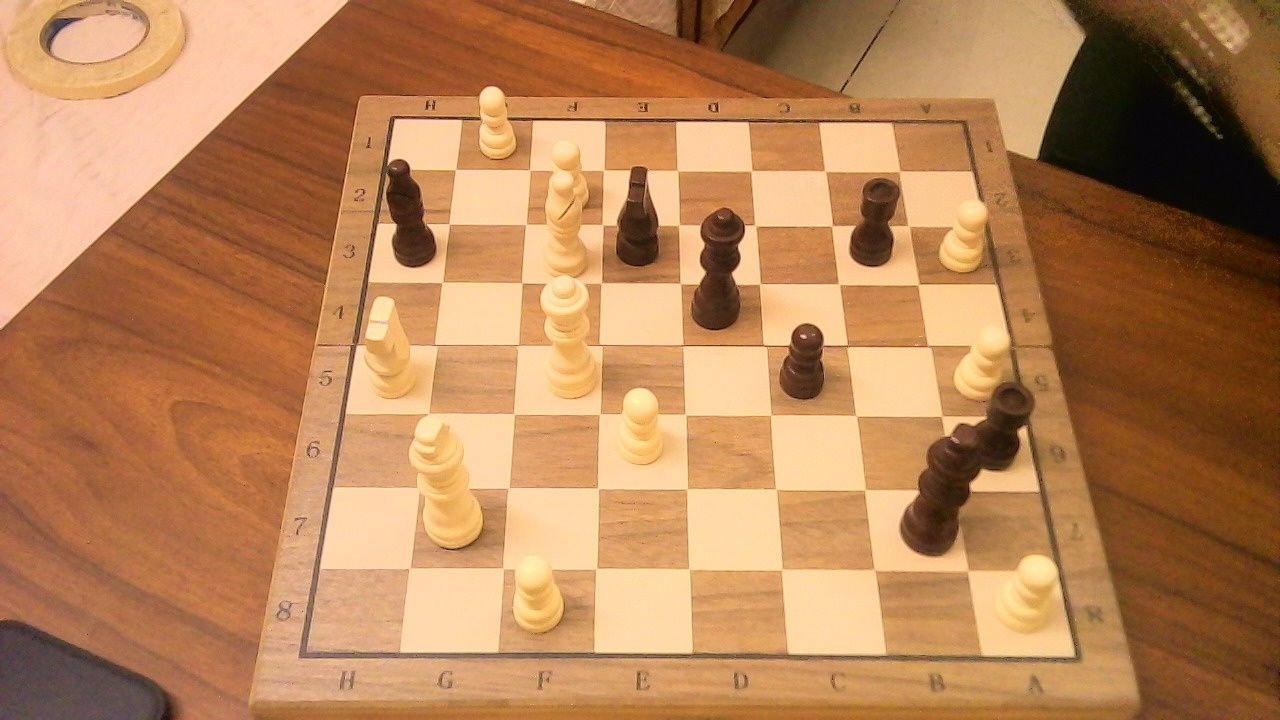B: (531, 160, 596, 279)
K: (405, 403, 493, 552)
N: (353, 323, 423, 404)
P: (989, 544, 1068, 637), (505, 544, 572, 638), (947, 316, 1018, 404), (606, 378, 671, 471), (933, 190, 996, 275), (468, 78, 523, 162), (539, 132, 594, 214)
Q: (529, 263, 602, 404)
b: (378, 147, 443, 271)
k: (894, 408, 994, 564)
n: (608, 155, 672, 270)
p: (774, 314, 835, 403)
q: (687, 196, 761, 334)
r: (964, 370, 1044, 473), (843, 163, 912, 272)
